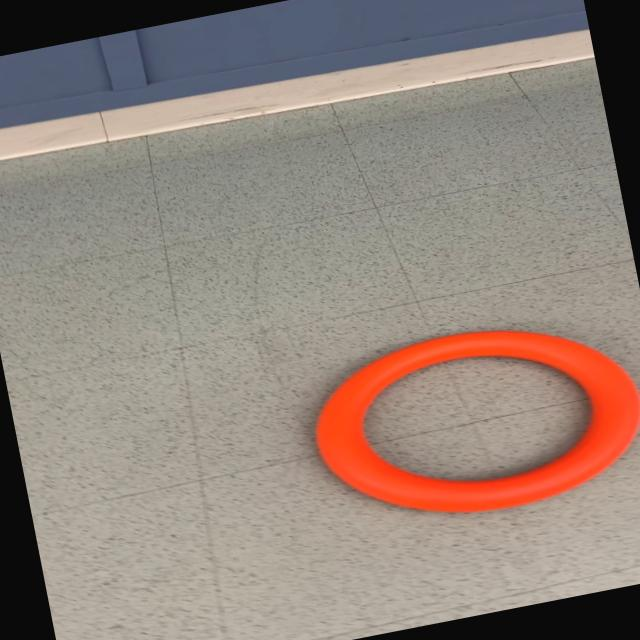note: (298, 299, 640, 542)
